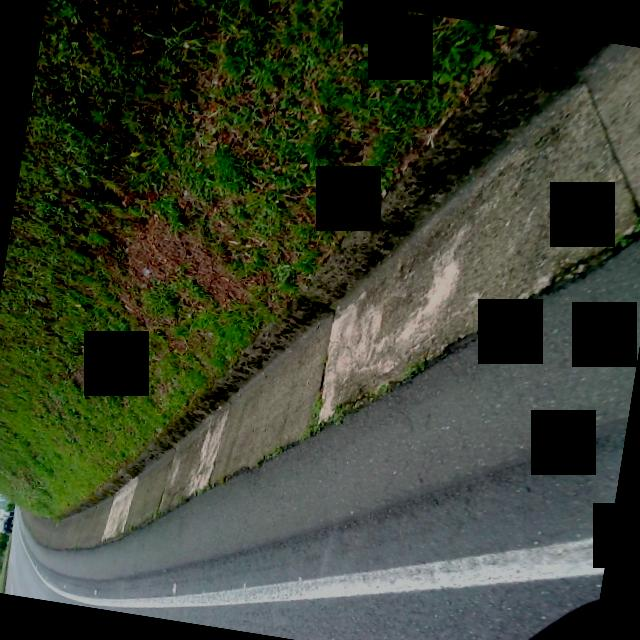DITCH: (7, 0, 640, 637), (25, 0, 640, 640), (32, 0, 640, 640)
